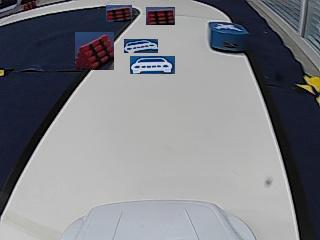prop: (209, 22, 249, 53)
